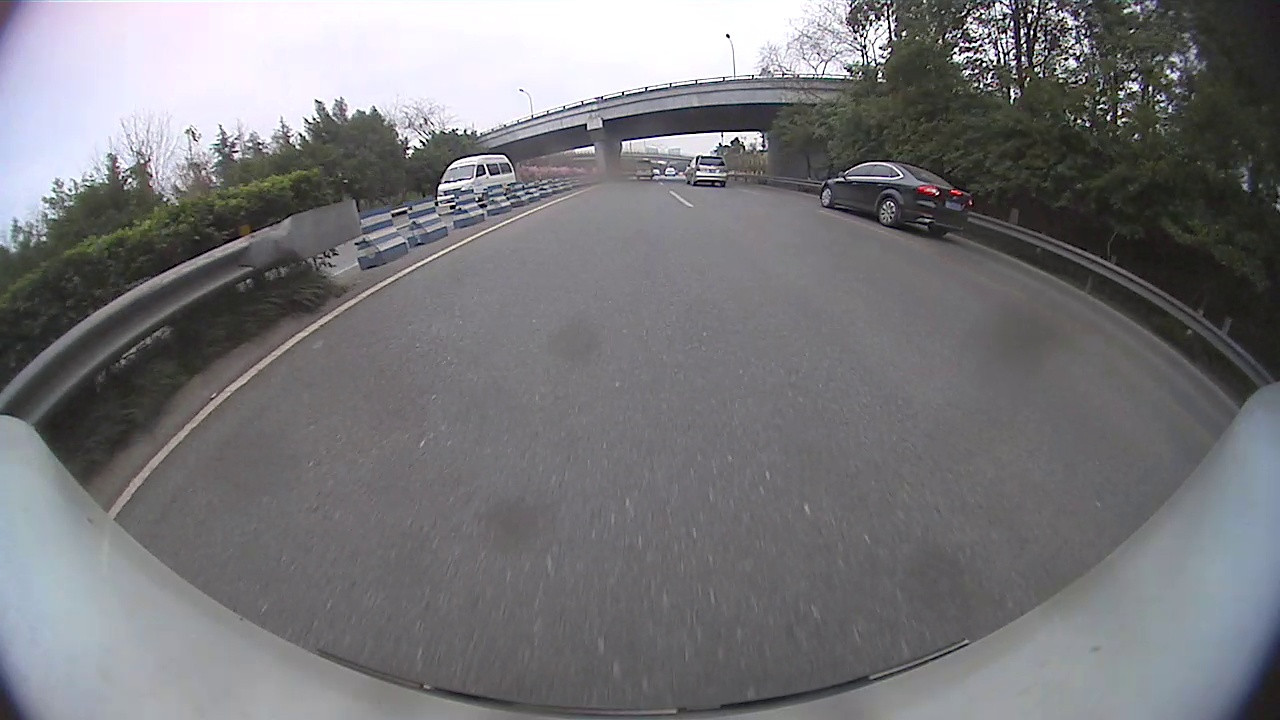car: (818, 158, 974, 238), (432, 152, 516, 197), (681, 154, 728, 188), (633, 158, 655, 181)
front: (821, 189, 832, 209)
rear: (878, 198, 900, 229)
